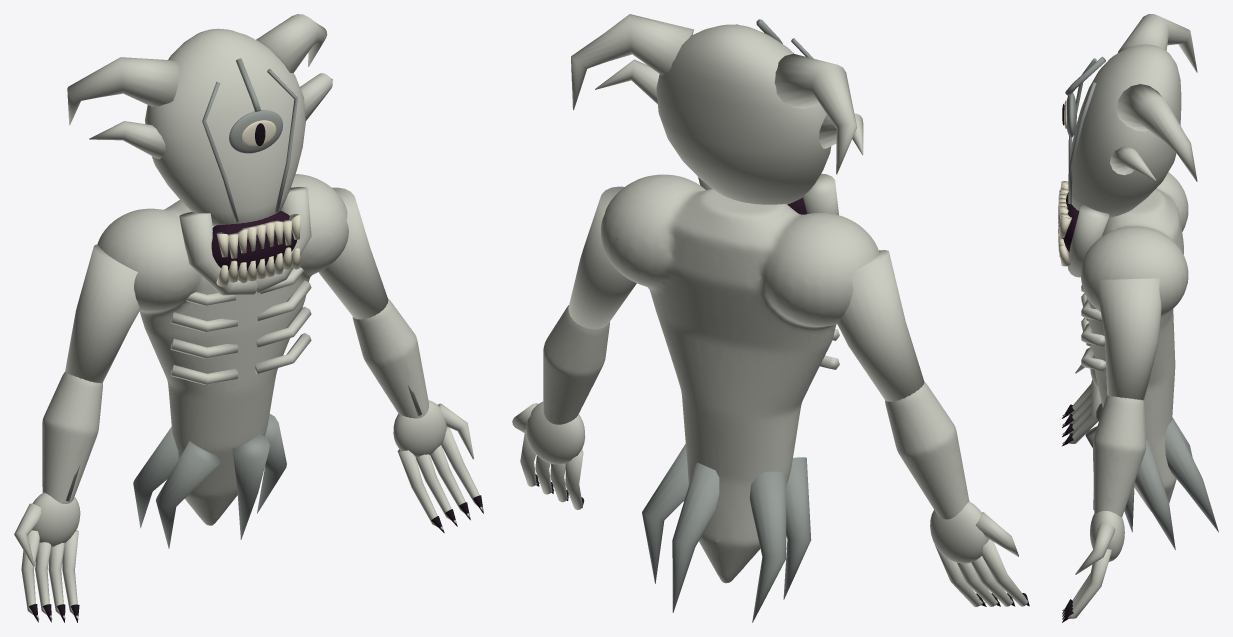
Rendered from rika.glb.
The picture shows the model from 3 angles, left to right: view 1: azimuth 30°, elevation 25°; view 2: azimuth 150°, elevation 25°; view 3: azimuth 270°, elevation 25°; orthographic projection. The views are drawn at different scales.
Parts seen in each view (by area): view 1: elongated cranial shield.001, organic Rika torso and shoulders.001, clawed palm.002, clawed palm.003, lower smoke tendril.005, long upper arm.002, long upper arm.003, interlocking fang.018, central skull ridge.001, deep open maw.001; view 2: organic Rika torso and shoulders.001, elongated cranial shield.001, clawed palm.002, lower smoke tendril.005, clawed palm.003, long upper arm.002, long upper arm.003; view 3: elongated cranial shield.001, organic Rika torso and shoulders.001, clawed palm.003, long upper arm.003, lower smoke tendril.005, central skull ridge.001, clawed palm.002, interlocking fang.018, deep open maw.001, dark claw tip.008.
Part boxes in pixels (x1,y1,x2,y2): elongated cranial shield.001: [67, 14, 332, 295]; organic Rika torso and shoulders.001: [97, 174, 348, 525]; clawed palm.002: [14, 372, 102, 619]; clawed palm.003: [352, 298, 482, 530]; lower smoke tendril.005: [133, 414, 286, 548]; long upper arm.002: [65, 244, 140, 383]; long upper arm.003: [318, 187, 388, 319]; interlocking fang.018: [216, 120, 300, 287]; central skull ridge.001: [202, 58, 297, 222]; deep open maw.001: [211, 210, 296, 270]; organic Rika torso and shoulders.001: [601, 174, 879, 583]; elongated cranial shield.001: [571, 14, 863, 215]; clawed palm.002: [885, 382, 1027, 606]; lower smoke tendril.005: [642, 444, 811, 622]; clawed palm.003: [512, 305, 609, 509]; long upper arm.002: [837, 250, 924, 401]; long upper arm.003: [568, 186, 636, 329]; elongated cranial shield.001: [1067, 14, 1197, 277]; organic Rika torso and shoulders.001: [1081, 172, 1188, 511]; clawed palm.003: [1062, 396, 1146, 619]; long upper arm.003: [1097, 278, 1161, 400]; lower smoke tendril.005: [1085, 403, 1218, 549]; central skull ridge.001: [1065, 57, 1105, 204]; clawed palm.002: [1062, 364, 1101, 443]; interlocking fang.018: [1058, 100, 1071, 266]; deep open maw.001: [1058, 192, 1079, 252]; dark claw tip.008: [1062, 404, 1074, 446].
Bounding box in the file's own units: 2.16 × 2.34 × 0.7084.
